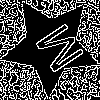M: (26, 21, 86, 81)
